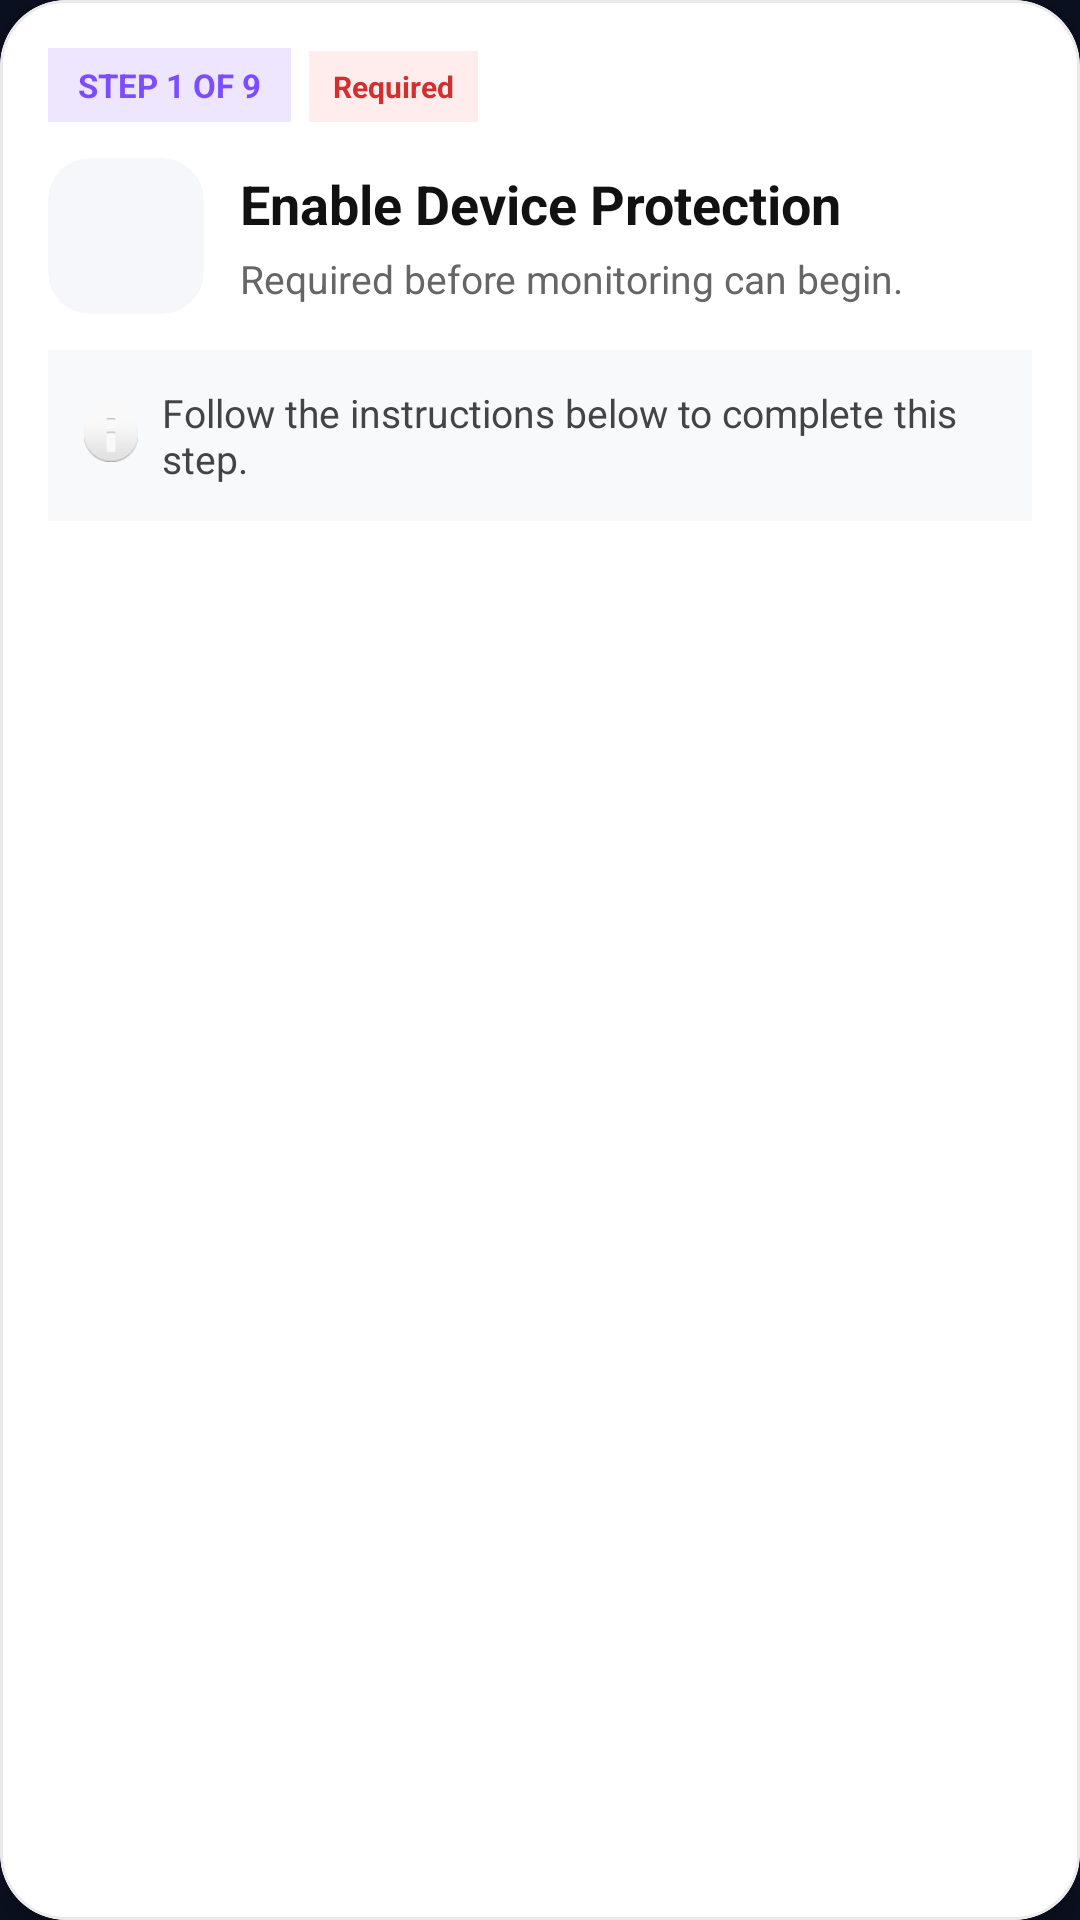

Screen size 1080x1920. Icon name, then its box in pixels as rect(x1, y1, x2, y2):
Info: rect(84, 418, 138, 462)
